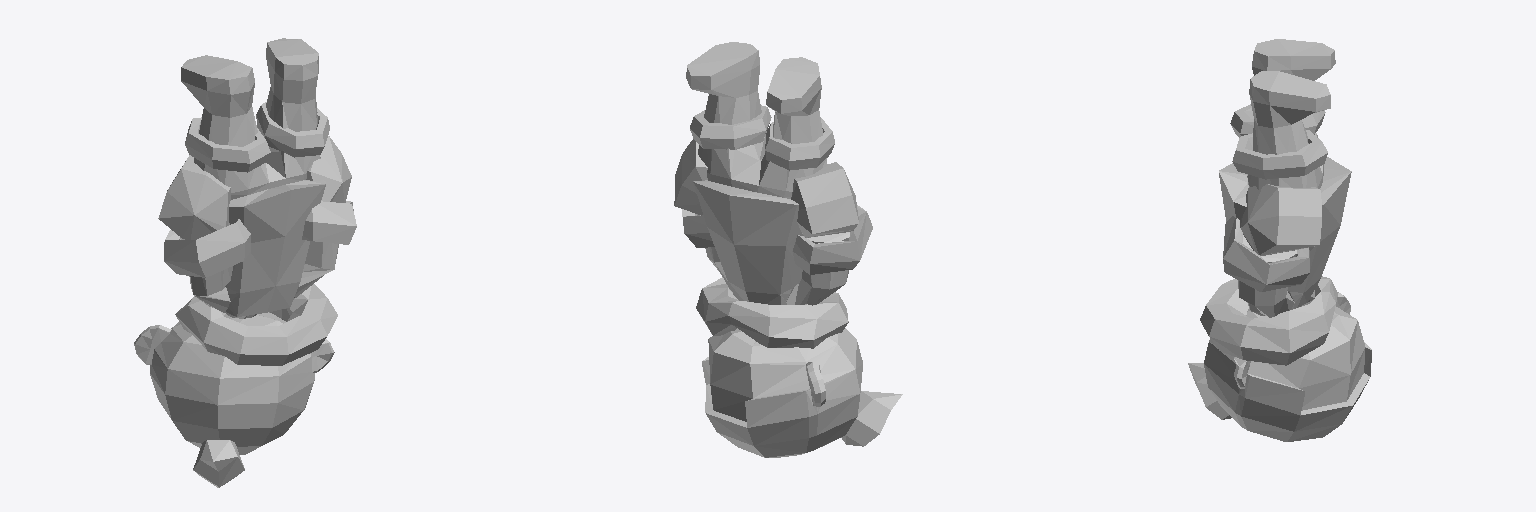
The model's file is eikastanding_000222.obj.
3 views of the same model, side by side, from view 1: azimuth 30°, elevation 25°; view 2: azimuth 150°, elevation 25°; view 3: azimuth 270°, elevation 25° (orthographic).
Visible parts, largest first — view 1: Cylinder; view 2: Cylinder; view 3: Cylinder.
Boxes of the visible parts, x1,y1,x2,y2 form: Cylinder: [134, 38, 356, 487]; Cylinder: [674, 42, 902, 457]; Cylinder: [1188, 39, 1371, 441].
Size of the model in its own units: 26.39 by 52.04 by 22.35.